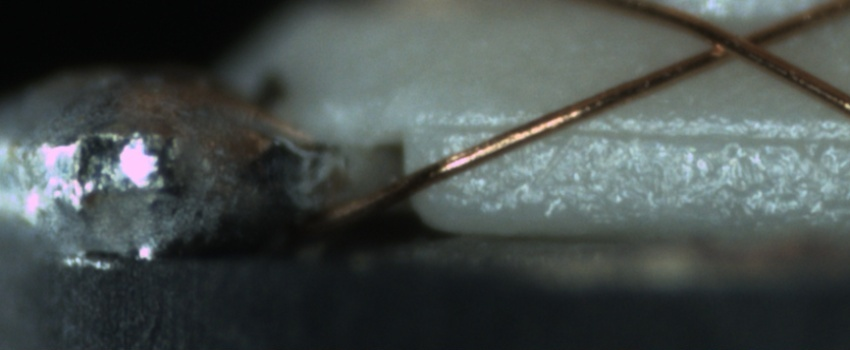CL: (690, 16, 783, 69)
DL: (426, 98, 850, 162)
